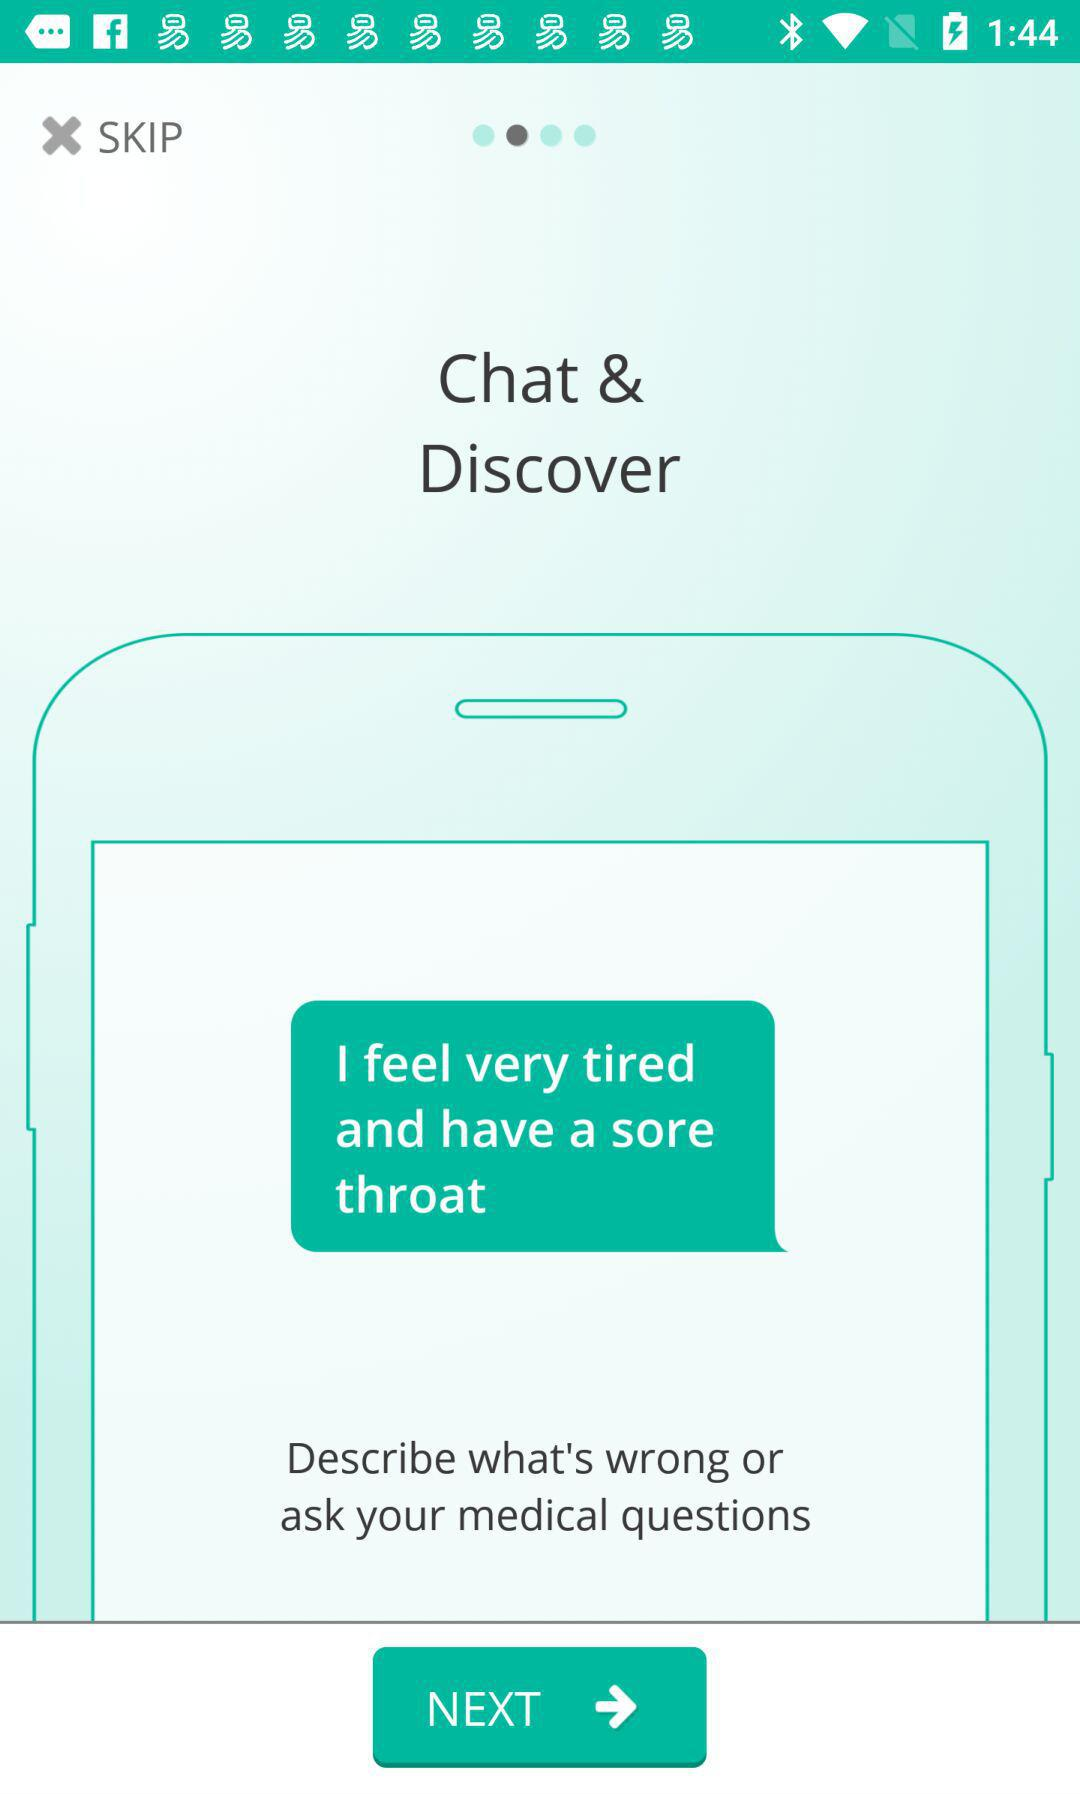Icon: (42, 117, 83, 158)
Image: (26, 633, 1054, 1621)
PageIndicator: (471, 123, 600, 150)
Text: (423, 351, 682, 495), (100, 122, 184, 155)
TextButton: (373, 1647, 708, 1768)
UpperTaskBar: (1, 1, 1080, 64)
